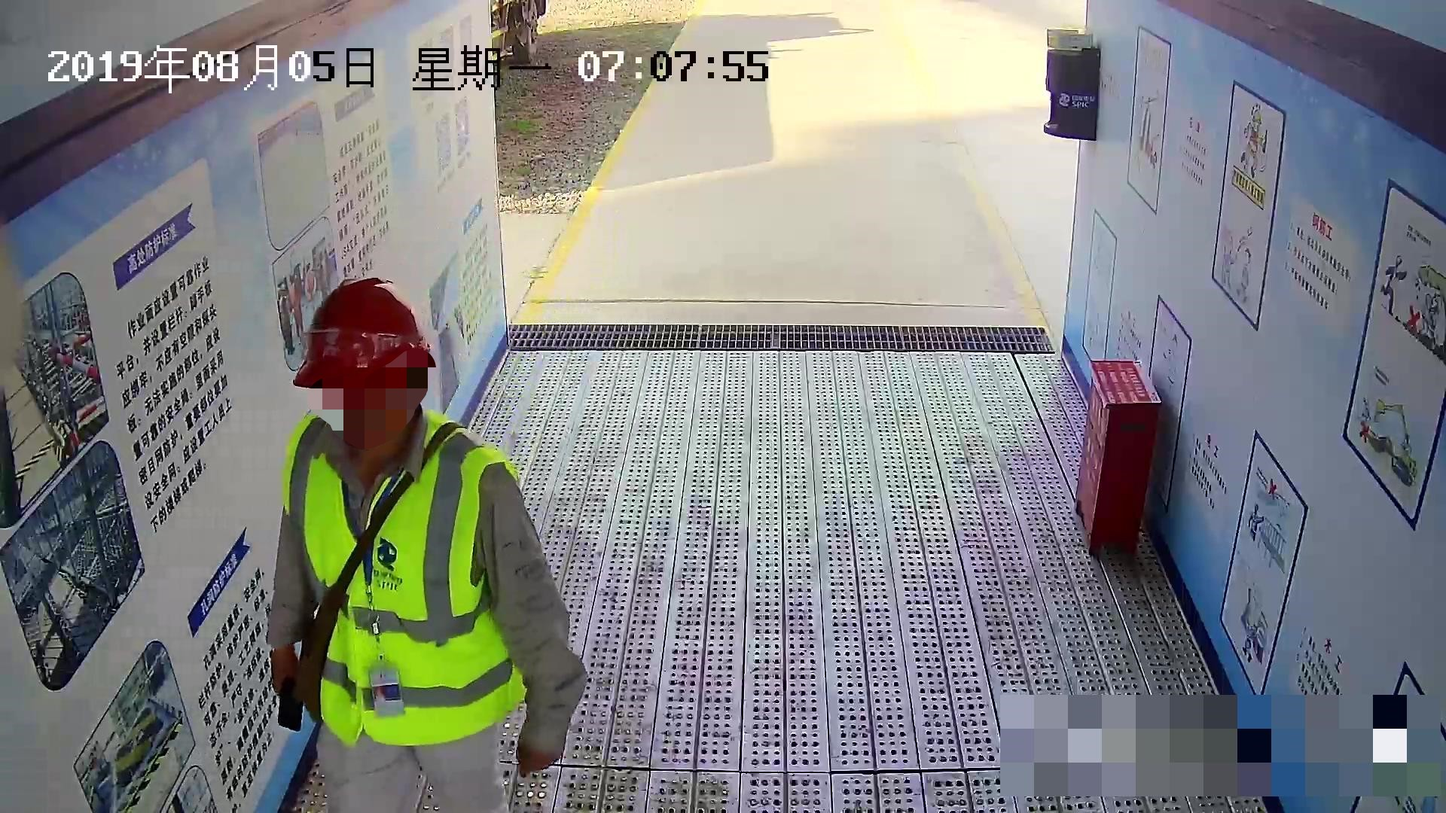hat: (287, 275, 425, 449)
person: (252, 258, 596, 813)
